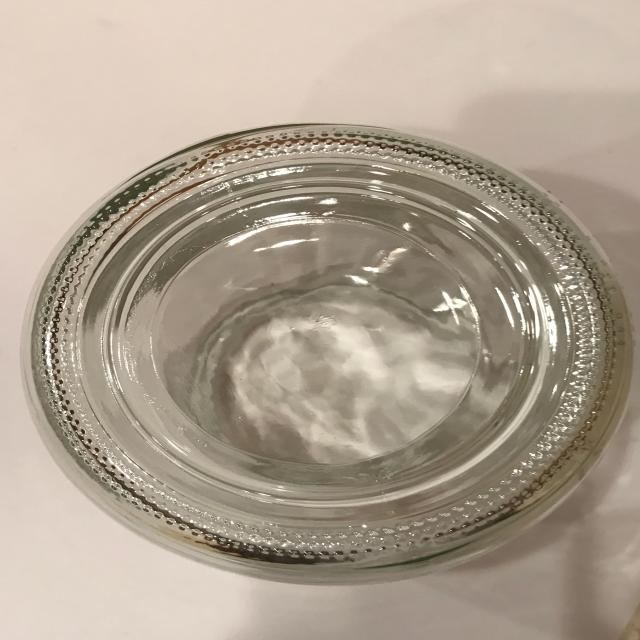glass: (21, 122, 634, 586)
